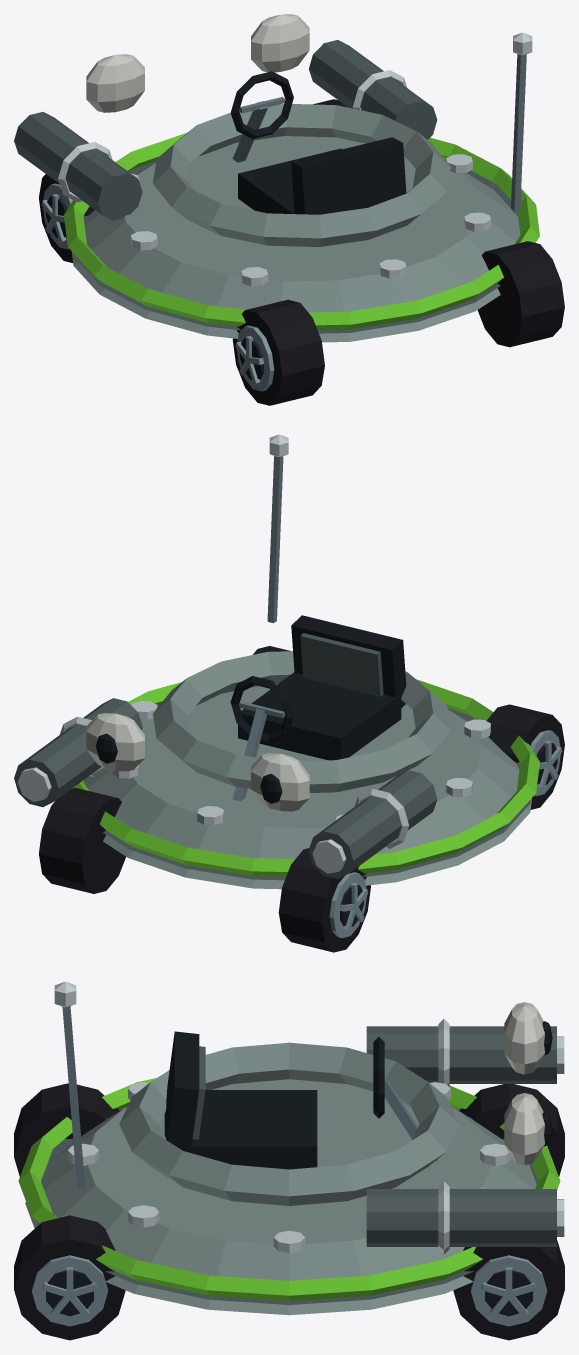
File: kart.glb
The picture shows the model from 3 angles, top to bottom: view 1: azimuth 30°, elevation 25°; view 2: azimuth 150°, elevation 25°; view 3: azimuth 270°, elevation 25°; orthographic projection. The views are drawn at different scales.
Parts seen in each view (by area): view 1: identity-saucer-saucer-double-rim, identity-saucer-motif-plasma, identity-saucer-driver-cockpit, wheel-rear-left, wheel-rear-right, identity-saucer-motif-eyes, identity-saucer-motif-antenna, wheel-front-left; view 2: identity-saucer-saucer-double-rim, identity-saucer-driver-cockpit, identity-saucer-motif-plasma, wheel-front-right, wheel-front-left, identity-saucer-motif-eyes, wheel-rear-left, identity-saucer-motif-antenna; view 3: identity-saucer-saucer-double-rim, identity-saucer-motif-plasma, identity-saucer-driver-cockpit, wheel-rear-right, wheel-front-right, identity-saucer-motif-eyes, wheel-rear-left, wheel-front-left, identity-saucer-motif-antenna.
Boxes of the visible parts, bbox=[...] form: identity-saucer-saucer-double-rim: bbox=[63, 104, 539, 342]; identity-saucer-motif-plasma: bbox=[14, 40, 437, 220]; identity-saucer-driver-cockpit: bbox=[230, 71, 406, 214]; wheel-rear-left: bbox=[232, 299, 324, 405]; wheel-rear-right: bbox=[477, 241, 564, 347]; identity-saucer-motif-eyes: bbox=[86, 14, 309, 112]; identity-saucer-motif-antenna: bbox=[511, 32, 532, 211]; wheel-front-left: bbox=[39, 174, 94, 262]; identity-saucer-saucer-double-rim: bbox=[72, 651, 539, 889]; identity-saucer-driver-cockpit: bbox=[230, 615, 406, 801]; identity-saucer-motif-plasma: bbox=[14, 698, 437, 878]; wheel-front-right: bbox=[39, 788, 125, 893]; wheel-front-left: bbox=[278, 848, 370, 952]; identity-saucer-motif-eyes: bbox=[86, 713, 309, 811]; wheel-rear-left: bbox=[486, 704, 564, 809]; identity-saucer-motif-antenna: bbox=[267, 434, 288, 623]; identity-saucer-saucer-double-rim: bbox=[18, 1042, 560, 1315]; identity-saucer-motif-plasma: bbox=[366, 1019, 564, 1254]; identity-saucer-driver-cockpit: bbox=[164, 1031, 437, 1169]; wheel-rear-right: bbox=[14, 1215, 125, 1340]; wheel-front-right: bbox=[453, 1240, 564, 1340]; identity-saucer-motif-eyes: bbox=[504, 1002, 552, 1165]; wheel-rear-left: bbox=[14, 1083, 119, 1176]; wheel-front-left: bbox=[459, 1083, 564, 1176]; identity-saucer-motif-antenna: bbox=[54, 981, 84, 1189].
Bounding box in the file's own units: 2.42 × 1.72 × 2.46.
